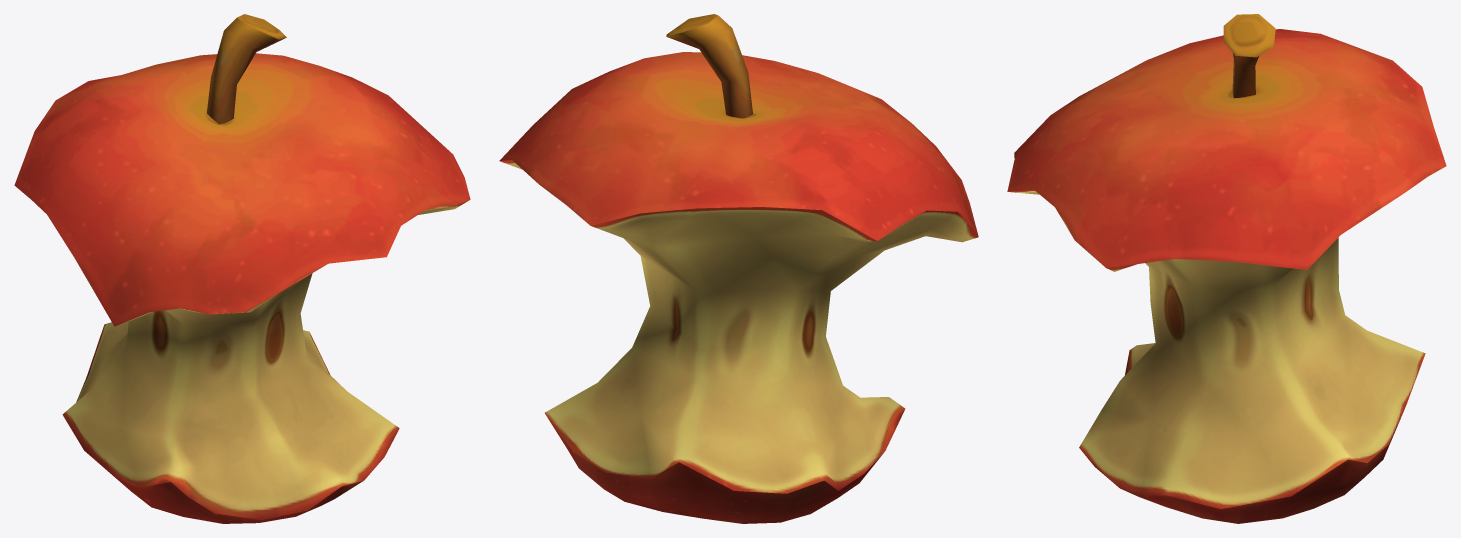
File: SM_AppleRedBitten.fbx
3 views of the same model, side by side, from view 1: azimuth 30°, elevation 25°; view 2: azimuth 150°, elevation 25°; view 3: azimuth 270°, elevation 25° (orthographic). The views are drawn at different scales.
Visible parts, largest first — view 1: SM_AppleRedBitten; view 2: SM_AppleRedBitten; view 3: SM_AppleRedBitten.
Boxes of the visible parts, <box> form: SM_AppleRedBitten: <box>14,14,470,523</box>; SM_AppleRedBitten: <box>499,14,978,523</box>; SM_AppleRedBitten: <box>1007,14,1446,523</box>.
Bounding box in the file's own units: 12.31 × 14.07 × 11.8.
